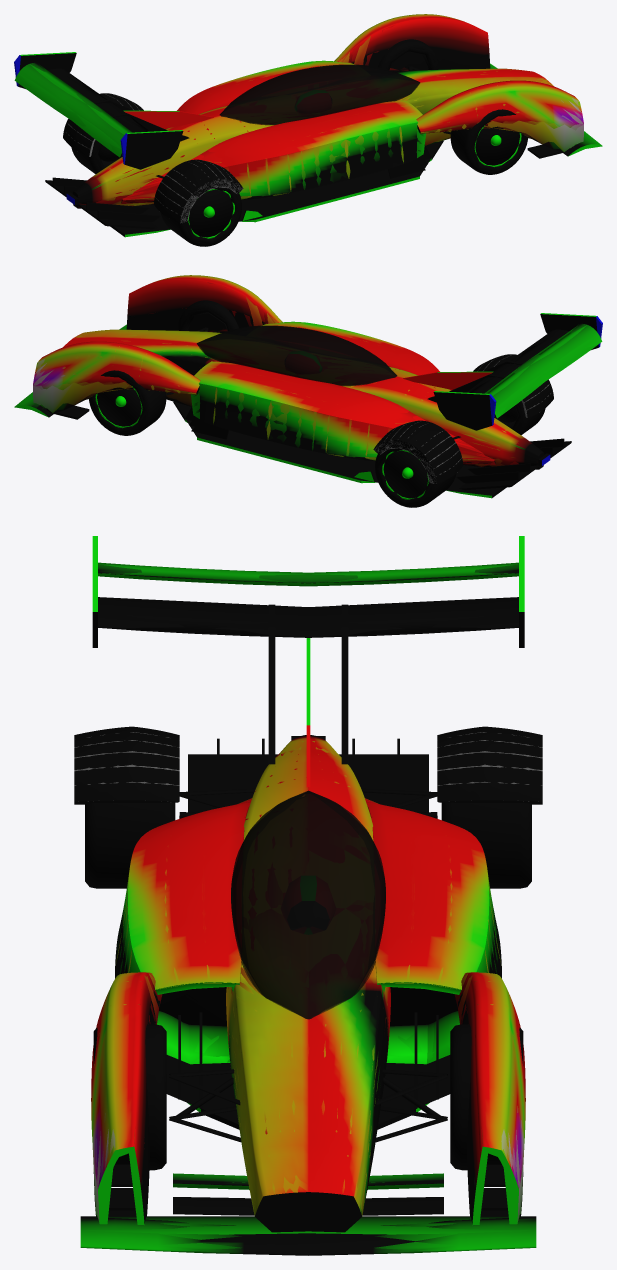
The model's file is falcon.glb.
3 renders of one model, top to bottom at view 1: azimuth 30°, elevation 25°; view 2: azimuth 150°, elevation 25°; view 3: azimuth 270°, elevation 25°, orthographic. The views are drawn at different scales.
Visible parts, largest first — view 1: body_L0, glass_L0, glass_L1, body_L2, body_L1, glass_L2, wheel_RR_L2, wheel_FR_L2, wheel_FR_L0, wheel_RR_L0, wheel_FL_L0, wheel_FR_L1 (+3 smaller); view 2: body_L0, glass_L0, glass_L1, body_L2, body_L1, glass_L2, wheel_RL_L2, wheel_FL_L2, wheel_FL_L0, wheel_RL_L0, wheel_FR_L0, wheel_FL_L1 (+3 smaller); view 3: body_L0, glass_L0, glass_L1, body_L2, body_L1, wheel_RL_L0, wheel_RR_L0, wheel_FL_L0, wheel_FR_L0, glass_L2.
Boxes of the visible parts, <box> form: body_L0: <box>14,14,601,237</box>; glass_L0: <box>220,64,419,125</box>; glass_L1: <box>220,65,419,124</box>; body_L2: <box>16,36,602,222</box>; body_L1: <box>29,18,601,223</box>; glass_L2: <box>221,66,416,114</box>; wheel_RR_L2: <box>184,187,240,243</box>; wheel_FR_L2: <box>470,112,526,172</box>; wheel_FR_L0: <box>450,109,528,174</box>; wheel_RR_L0: <box>161,189,241,246</box>; wheel_FL_L0: <box>378,39,439,71</box>; wheel_FR_L1: <box>453,109,526,174</box>; body_L0: <box>14,275,602,498</box>; glass_L0: <box>197,325,396,386</box>; glass_L1: <box>197,326,396,385</box>; body_L2: <box>23,297,600,483</box>; body_L1: <box>16,279,576,483</box>; glass_L2: <box>202,327,396,376</box>; wheel_RL_L2: <box>376,448,432,504</box>; wheel_FL_L2: <box>90,374,146,433</box>; wheel_FL_L0: <box>88,370,166,435</box>; wheel_RL_L0: <box>375,450,456,507</box>; wheel_FR_L0: <box>177,300,238,332</box>; wheel_FL_L1: <box>90,370,163,435</box>; body_L0: <box>74,536,542,1255</box>; glass_L0: <box>231,790,385,1019</box>; glass_L1: <box>231,791,385,1018</box>; body_L2: <box>78,564,538,1234</box>; body_L1: <box>74,575,542,1255</box>; wheel_RL_L0: <box>441,802,531,888</box>; wheel_RR_L0: <box>85,802,175,888</box>; wheel_FL_L0: <box>450,1024,523,1170</box>; wheel_FR_L0: <box>93,1024,166,1170</box>; glass_L2: <box>233,792,384,1018</box>.
Bounding box in the file's own units: 5.21 × 1.36 × 2.18.
